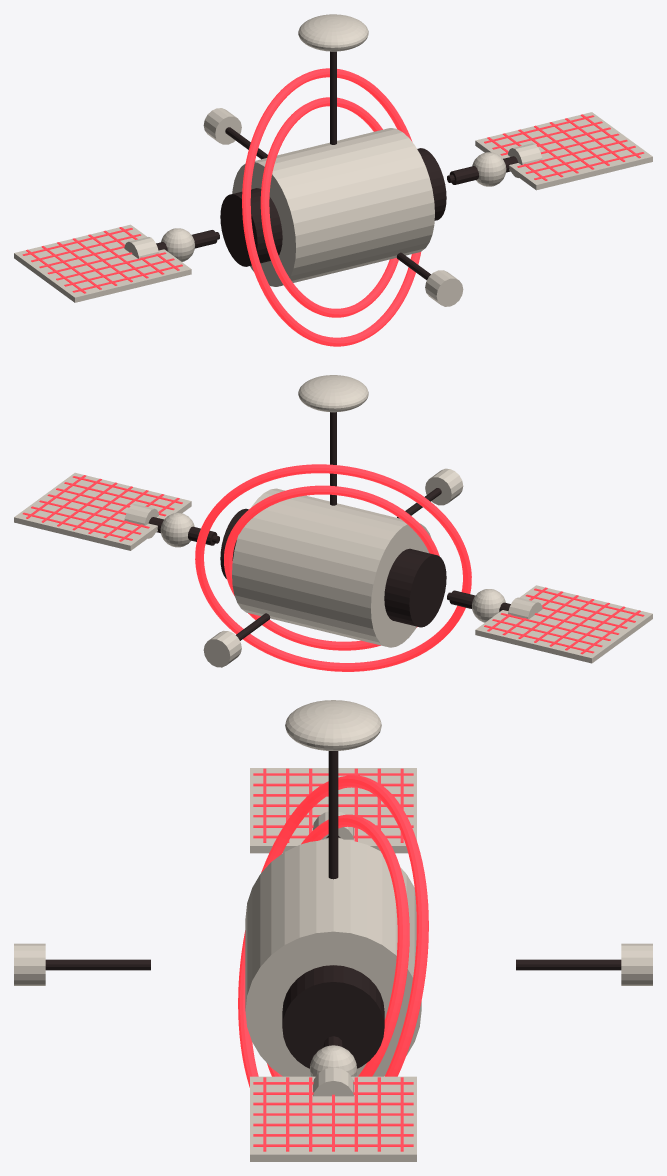
File: infernux-station.glb
The picture shows the model from 3 angles, top to bottom: view 1: azimuth 30°, elevation 25°; view 2: azimuth 150°, elevation 25°; view 3: azimuth 270°, elevation 25°; orthographic projection. The views are drawn at different scales.
Parts seen in each view (by area): view 1: Cylinder, Solar Panel, Solar Panel.001, Torus.001, Torus, Cylinder.001, Sphere.002, Cylinder.012, Cylinder.008, Sphere.001, Sphere, Cylinder.004 (+3 smaller); view 2: Cylinder, Torus.001, Solar Panel, Solar Panel.001, Cylinder.001, Torus, Sphere.002, Cylinder.008, Cylinder.012, Sphere.001, Sphere, Cylinder.006 (+2 smaller); view 3: Cylinder, Solar Panel.001, Cylinder.001, Solar Panel, Torus.001, Torus, Sphere.002, Cylinder.004, Cylinder.008, Cylinder.012, Cylinder.007, Cylinder.011 (+2 smaller).
Boxes of the visible parts, x1,y1,x2,y2 form: Cylinder: (232, 128, 434, 286); Solar Panel: (14, 224, 191, 302); Solar Panel.001: (475, 112, 652, 190); Torus.001: (242, 68, 420, 346); Torus: (260, 97, 398, 317); Cylinder.001: (220, 148, 446, 266); Sphere.002: (298, 14, 368, 51); Cylinder.012: (425, 270, 463, 306); Cylinder.008: (203, 108, 241, 144); Sphere.001: (472, 152, 506, 186); Sphere: (161, 228, 194, 261); Cylinder.004: (330, 51, 336, 144); Cylinder: (232, 488, 431, 647); Torus.001: (195, 464, 471, 671); Solar Panel: (475, 585, 652, 663); Solar Panel.001: (14, 472, 191, 550); Cylinder.001: (220, 508, 446, 627); Torus: (224, 485, 439, 650); Sphere.002: (298, 375, 368, 412); Cylinder.008: (203, 630, 241, 667); Cylinder.012: (425, 468, 463, 505); Sphere.001: (160, 513, 194, 547); Sphere: (472, 589, 505, 622); Cylinder.006: (124, 504, 158, 538); Cylinder: (245, 839, 421, 1076); Solar Panel.001: (250, 1076, 416, 1161); Cylinder.001: (282, 965, 384, 1068); Solar Panel: (250, 768, 416, 853); Torus.001: (238, 775, 428, 1087); Torus: (267, 814, 409, 1076); Sphere.002: (285, 700, 381, 750); Cylinder.004: (328, 751, 338, 879); Cylinder.008: (621, 943, 652, 985); Cylinder.012: (14, 943, 45, 985); Cylinder.007: (516, 959, 621, 970); Cylinder.011: (45, 959, 150, 970).
Size of the model in its own units: 10.4 by 5.26 by 7.26.
